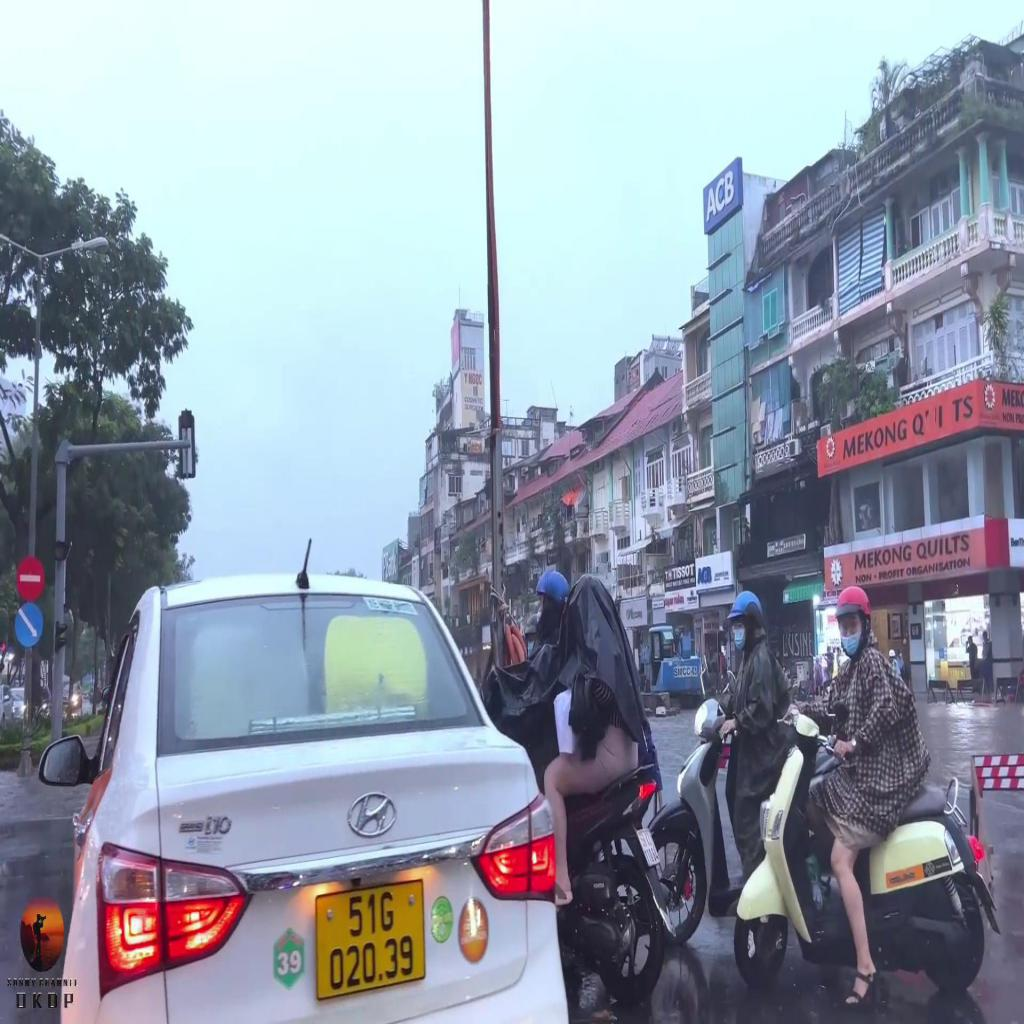cam_xe_di_nguoc_chieu: (17, 559, 45, 600)
huong_phai_di_vuot_chuong_ngai_vat_phai: (14, 602, 43, 647)
